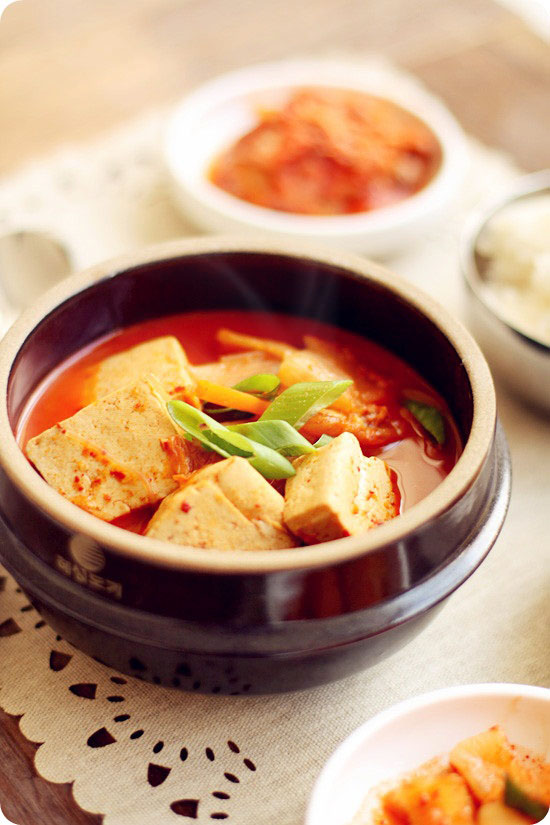gimchijjigae: (17, 301, 464, 551)
